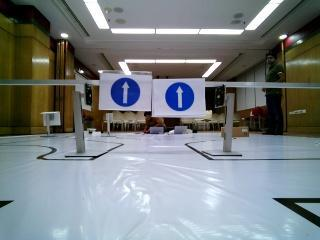straight: (153, 77, 206, 116), (100, 71, 149, 109)
